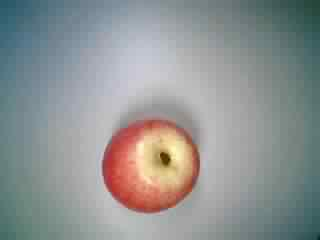apple: (98, 112, 203, 214)
